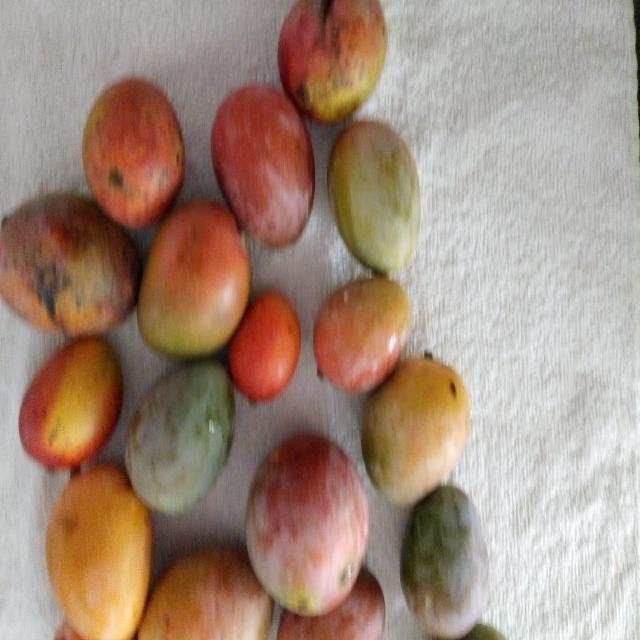mango: (245, 424, 369, 622), (0, 192, 147, 332), (40, 462, 154, 640), (354, 352, 474, 508), (127, 353, 239, 515), (210, 84, 314, 251), (139, 202, 251, 357), (16, 332, 127, 474), (83, 70, 183, 219), (328, 116, 422, 272), (396, 483, 489, 640), (308, 276, 414, 386)
